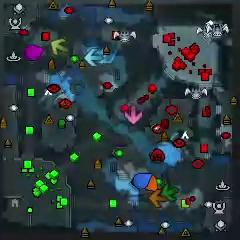p1: (132, 172, 153, 189)
p3: (25, 44, 44, 60)
p5: (145, 175, 157, 191)
x1: (124, 105, 143, 124)
x2: (52, 38, 68, 54)
x3: (85, 48, 103, 66)
x4: (162, 183, 179, 202)
x5: (149, 189, 166, 208)
